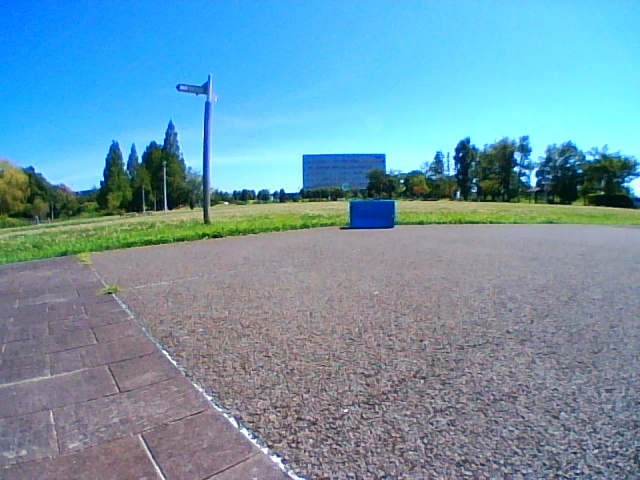blue_box: (350, 200, 394, 229)
